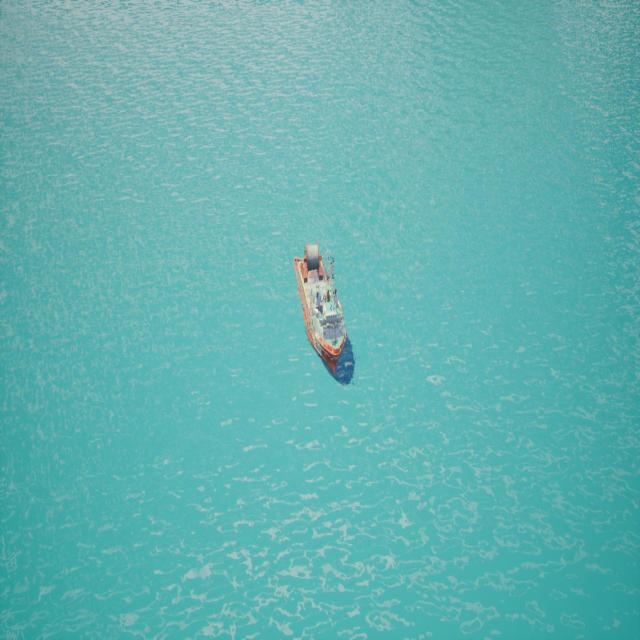tug boat: (254, 208, 356, 378)
